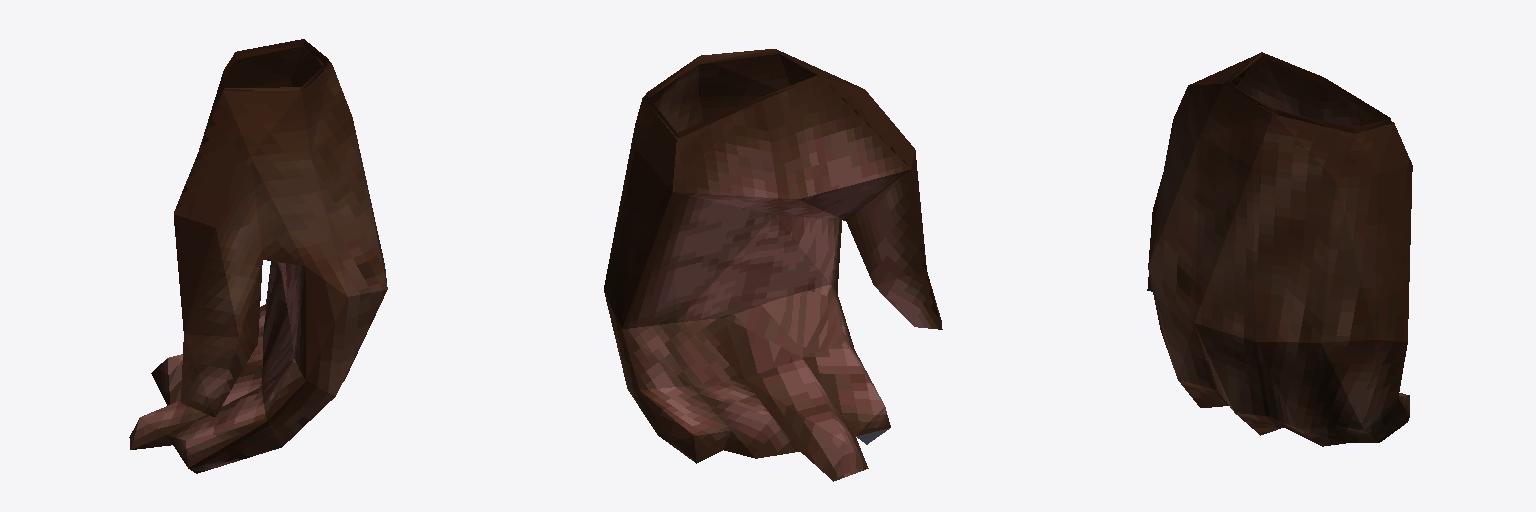
3 renders of one model, left to right at view 1: azimuth 30°, elevation 25°; view 2: azimuth 150°, elevation 25°; view 3: azimuth 270°, elevation 25°, orthographic.
Visible parts, largest first — view 1: MANOS; view 2: MANOS; view 3: MANOS.
Part boxes in pixels (x1,y1,x2,y2): MANOS: (129,39,387,473); MANOS: (604,49,942,481); MANOS: (1147,52,1412,446).
Size of the model in its own units: 0.1076 by 0.1516 by 0.099.
1 materials, 1 textured.